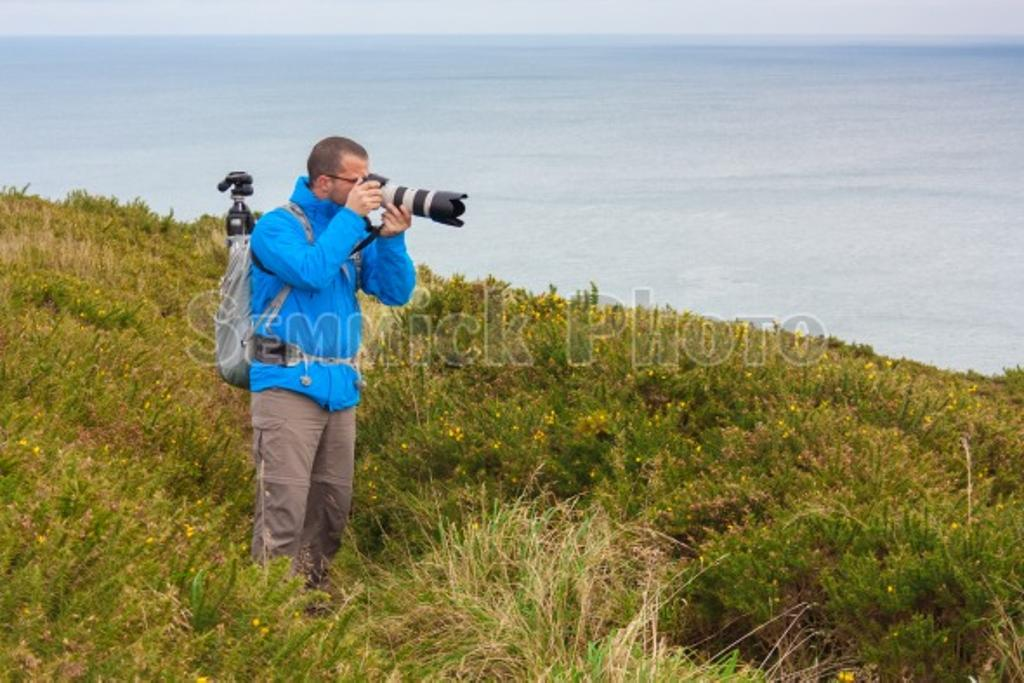face: (330, 154, 367, 213)
